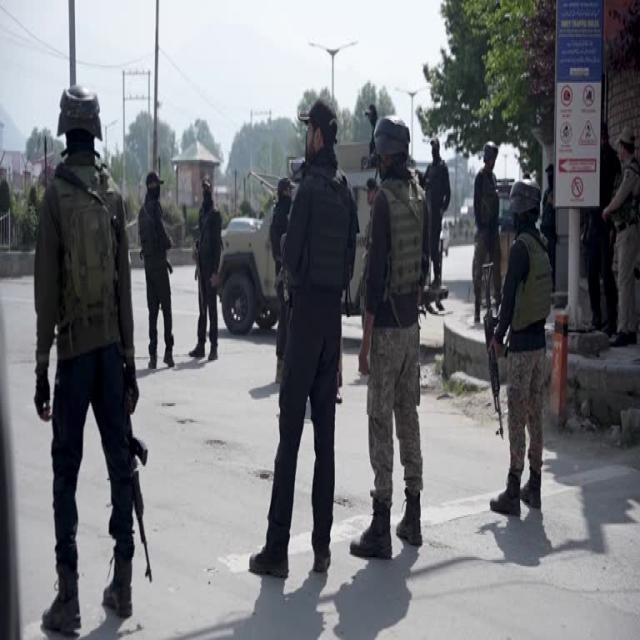Militant: (28, 43, 181, 636), (253, 63, 356, 640), (360, 99, 455, 566), (483, 146, 582, 544), (172, 131, 247, 367), (130, 124, 178, 383)
